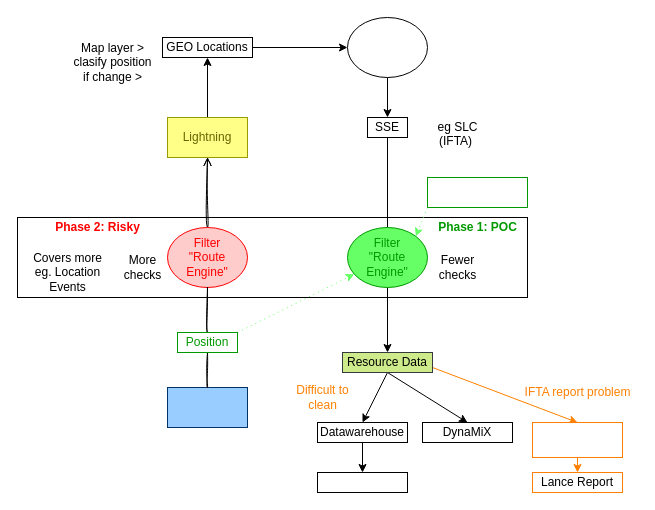
Image size: 655x510. Some labels were removed from this diagram. The centre of each missing label's shape, as x and y in pixels:
Consume Kafka (topic?): the point at 477,192
DIS: the point at 207,407
Logic Borderline Crossing!: the point at 387,47
Positions (Ifta Export API): the point at 577,440
Reporting: the point at 362,482
